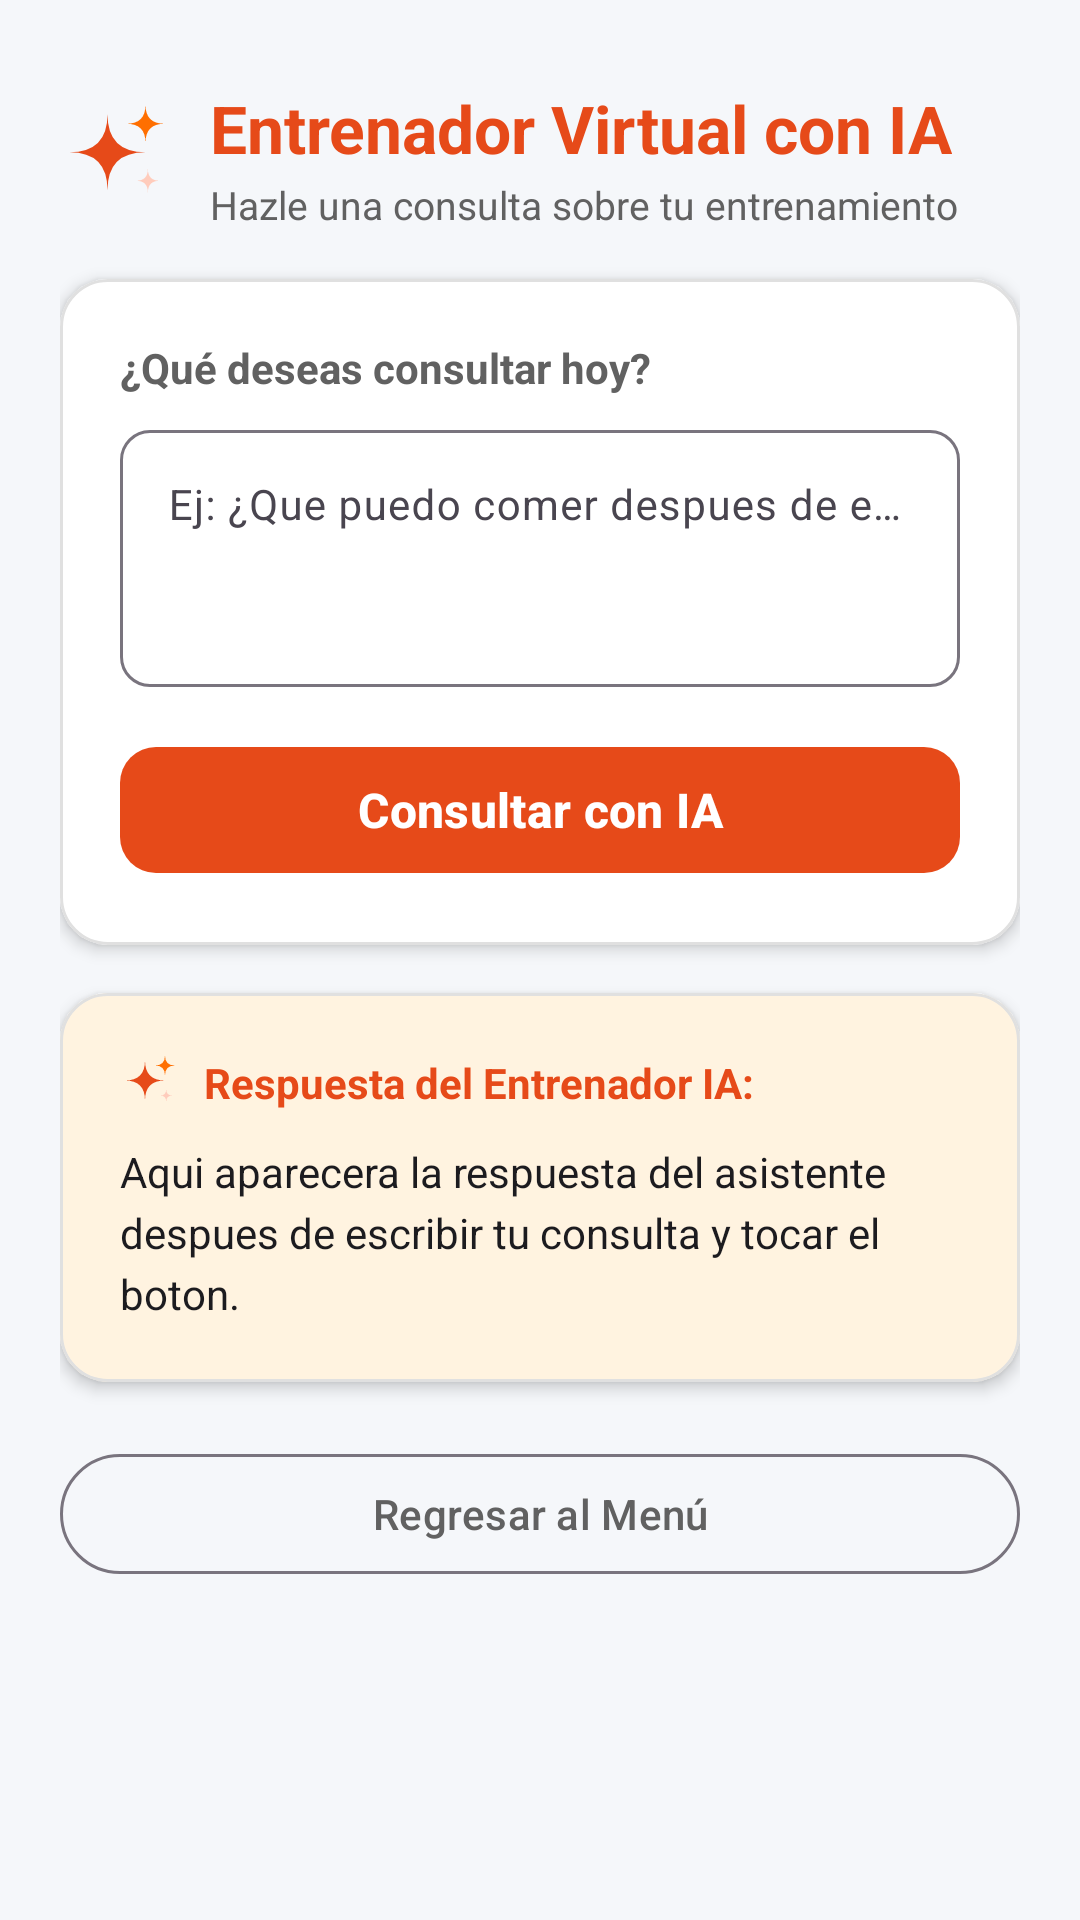

Screen size 1080x1920. Icon name, then its center in pixels as (x,y):
Icono del asistente: (116,148), (151,1077)
